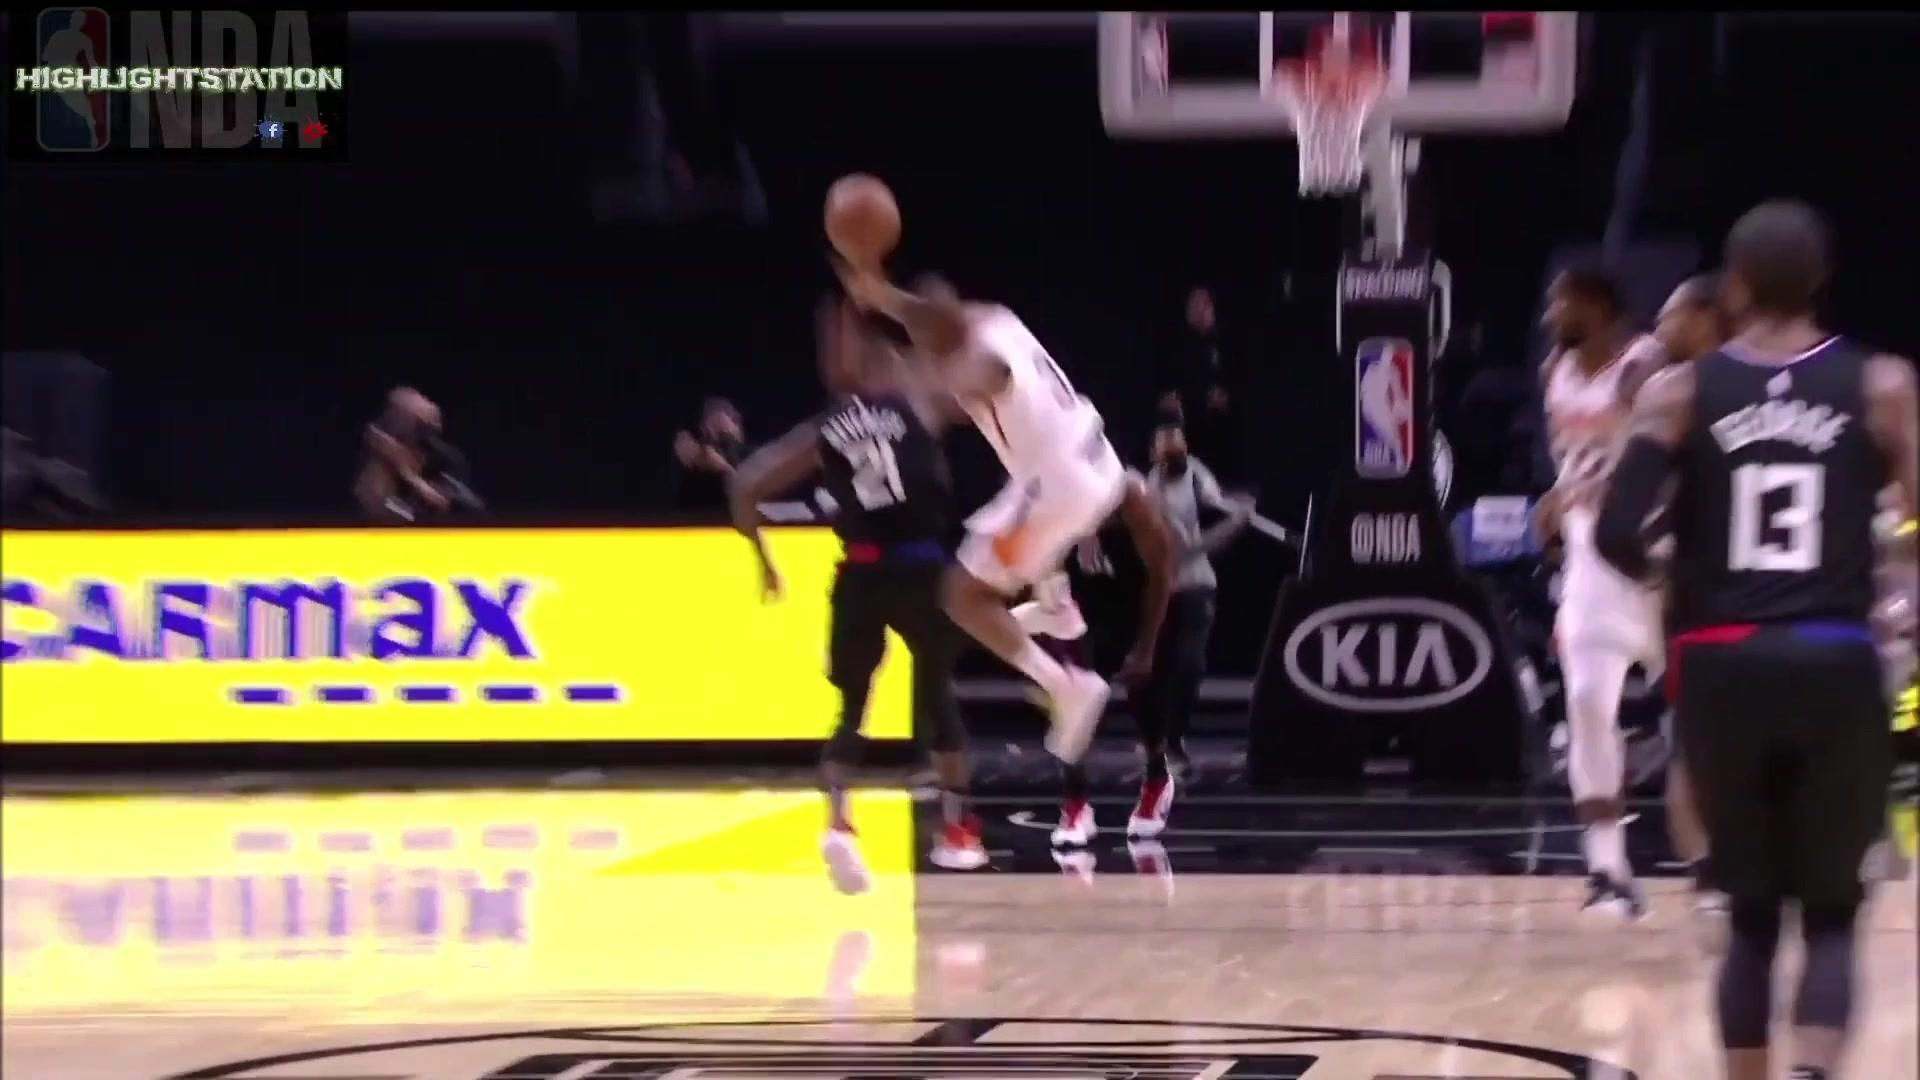foul: (741, 257, 1138, 865)
